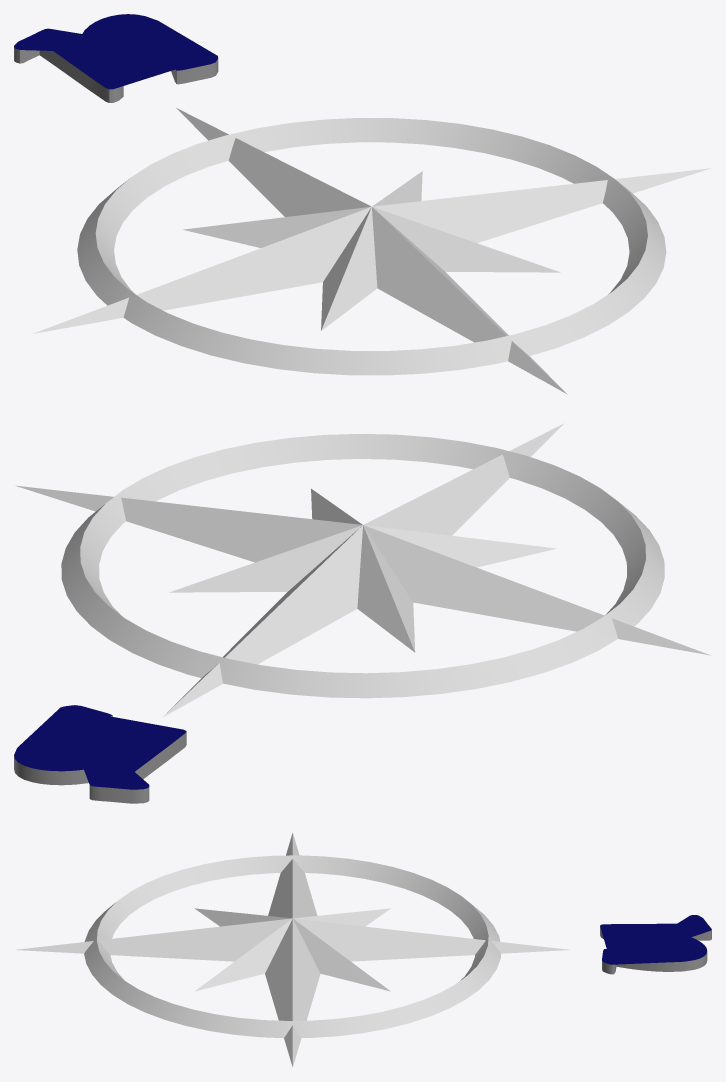
Rendered from compass.fbx.
3 renders of one model, top to bottom at view 1: azimuth 30°, elevation 25°; view 2: azimuth 150°, elevation 25°; view 3: azimuth 270°, elevation 25°, orthographic. The views are drawn at different scales.
Parts seen in each view (by area): view 1: North_Arrow1; view 2: North_Arrow1; view 3: North_Arrow1.
Part boxes in pixels (box(x1,y1,x2,y2)): North_Arrow1: box(14, 14, 710, 394); North_Arrow1: box(14, 423, 710, 803); North_Arrow1: box(15, 832, 711, 1067).
Size of the model in its own units: 4 by 0.25 by 5.01.
